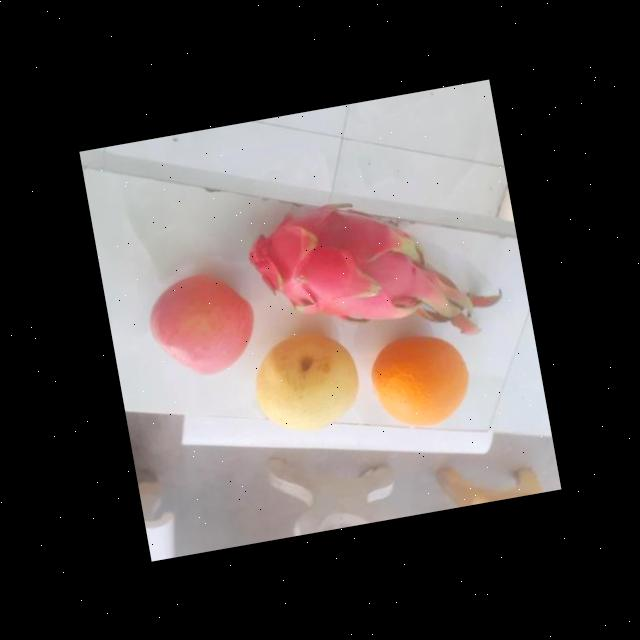apple: (140, 270, 262, 382)
orange: (362, 325, 479, 439)
pear: (241, 326, 368, 438)
pitaya: (234, 190, 444, 346)
